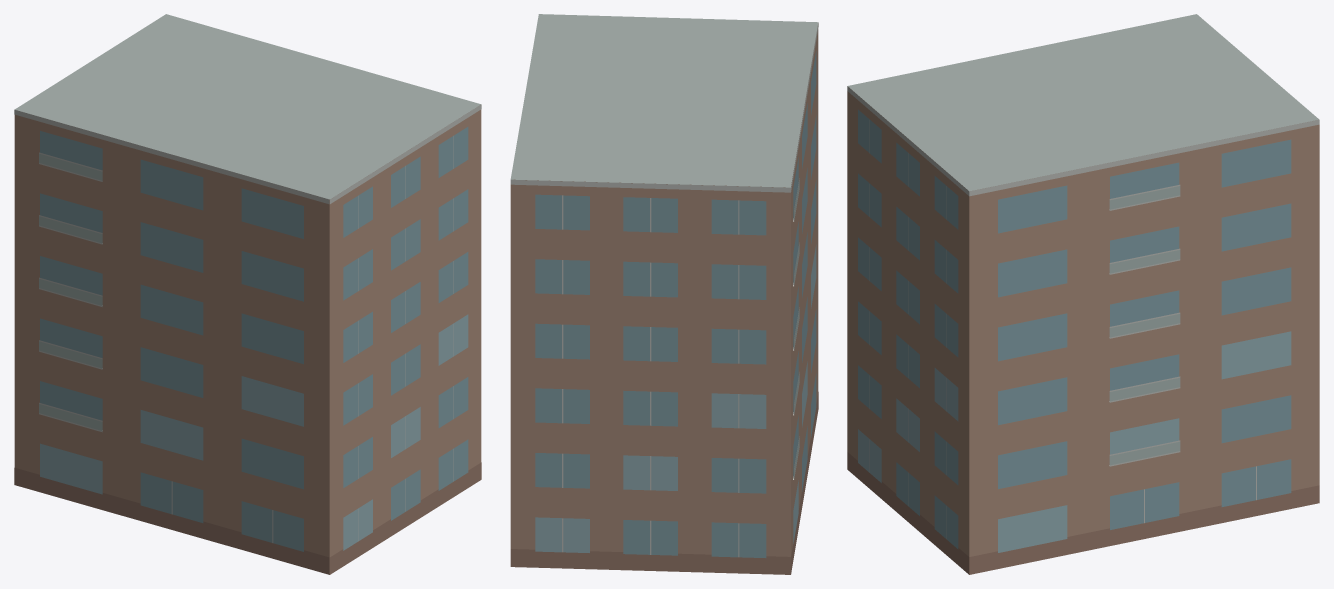
Rendered from survey-upis-32738337.glb.
3 renders of one model, left to right at view 1: azimuth 30°, elevation 25°; view 2: azimuth 150°, elevation 25°; view 3: azimuth 270°, elevation 25°, orthographic. The views are drawn at different scales.
Parts seen in each view (by area): view 1: survey-upis-32738337.tmp; view 2: survey-upis-32738337.tmp; view 3: survey-upis-32738337.tmp.
Part boxes in pixels (x1,y1,x2,y2): survey-upis-32738337.tmp: [14, 14, 481, 574]; survey-upis-32738337.tmp: [510, 14, 818, 574]; survey-upis-32738337.tmp: [847, 14, 1319, 574].
Size of the model in its own units: 18.55 by 18.7 by 20.87.
